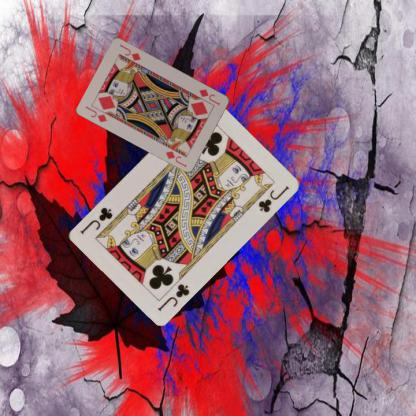Jc: (155, 281, 191, 312)
Jd: (83, 103, 109, 124), (196, 86, 222, 106)
